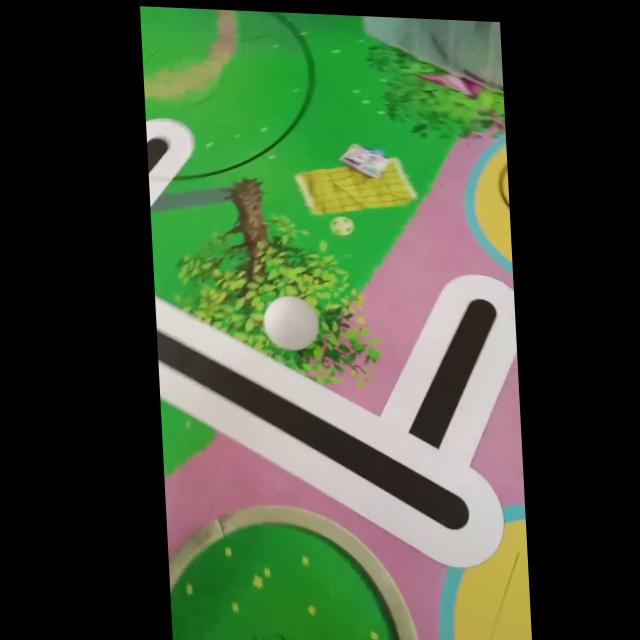white ball: (260, 293, 320, 351)
